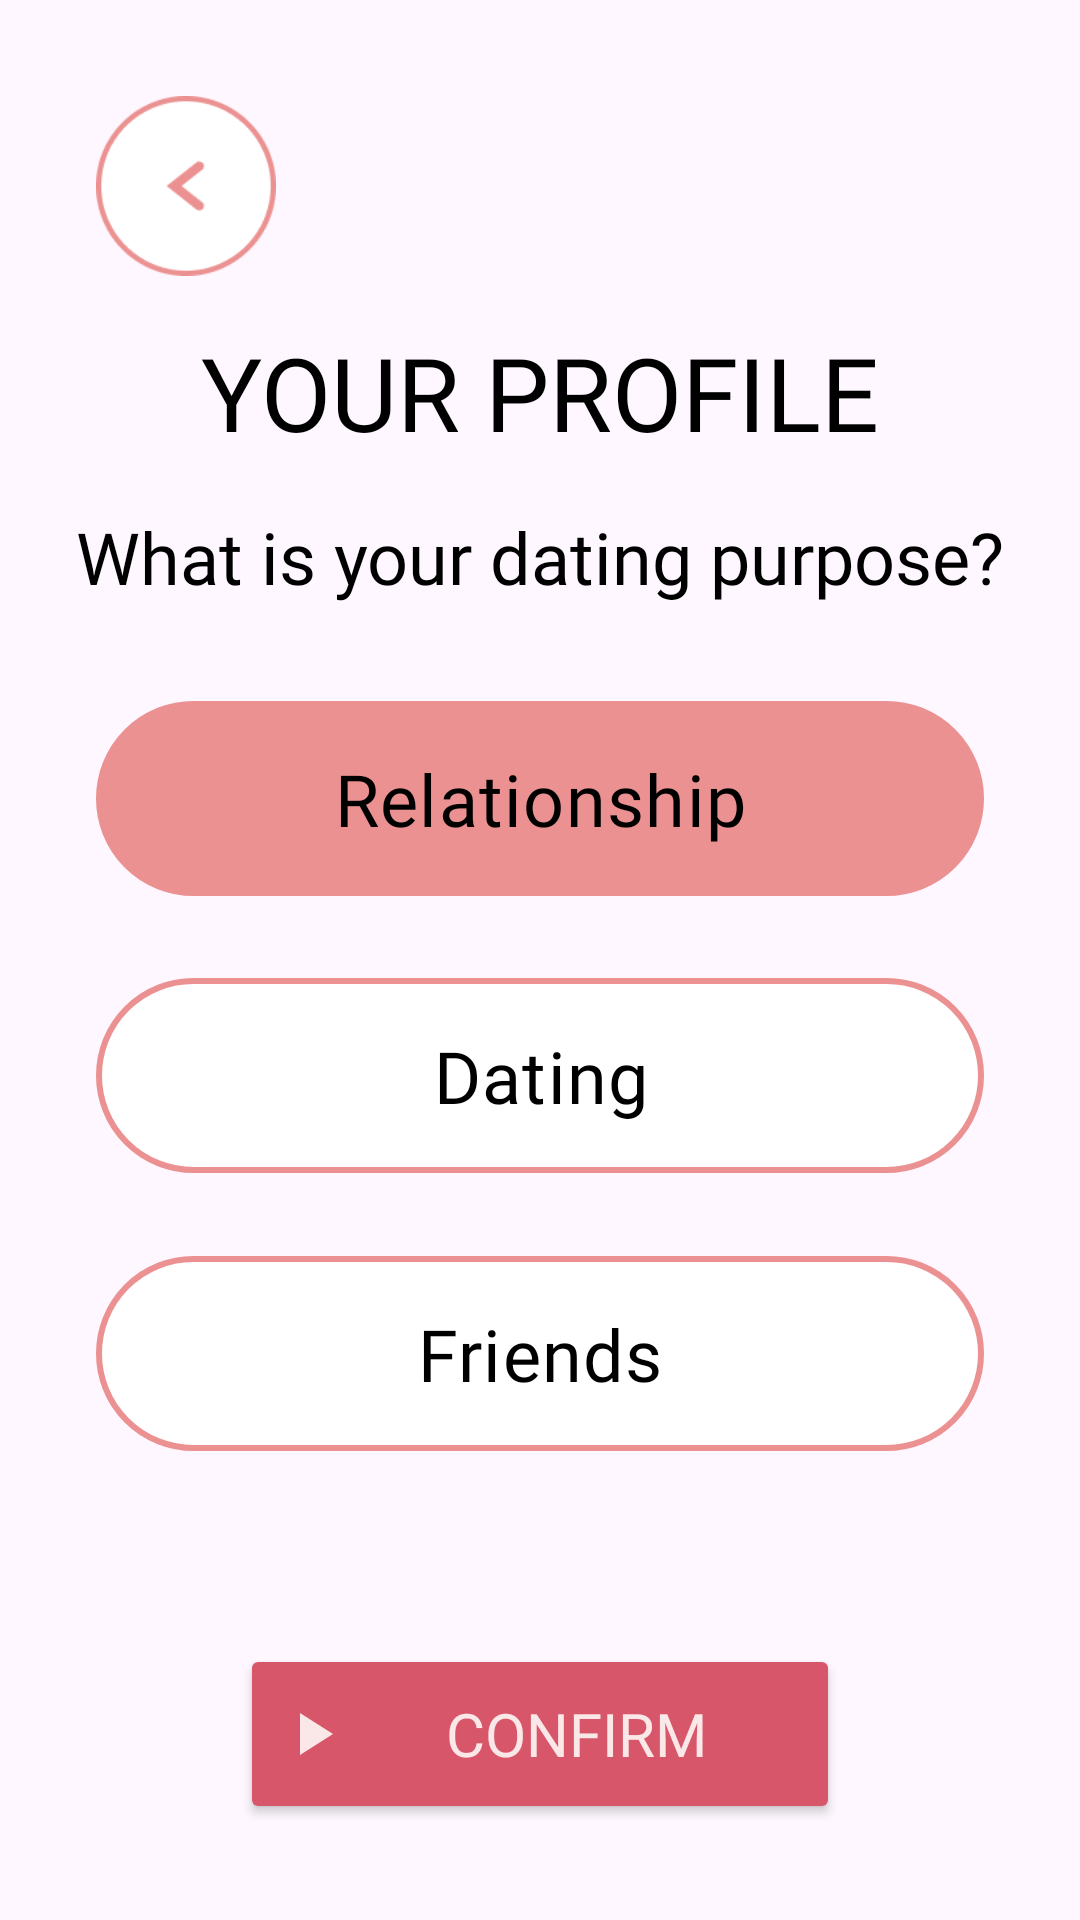

Icons on this 1080px x 1920px Android screen, each with the point to tap as (x=x, y=y):
back: (x=186, y=186)
